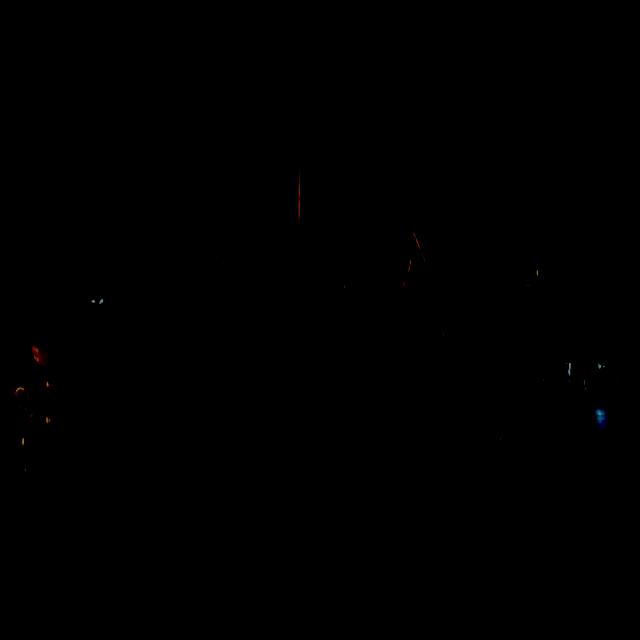Car: (0, 204, 296, 578), (317, 211, 640, 532)
